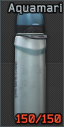Aquamari water bottle with filter: (0, 0, 64, 127)
